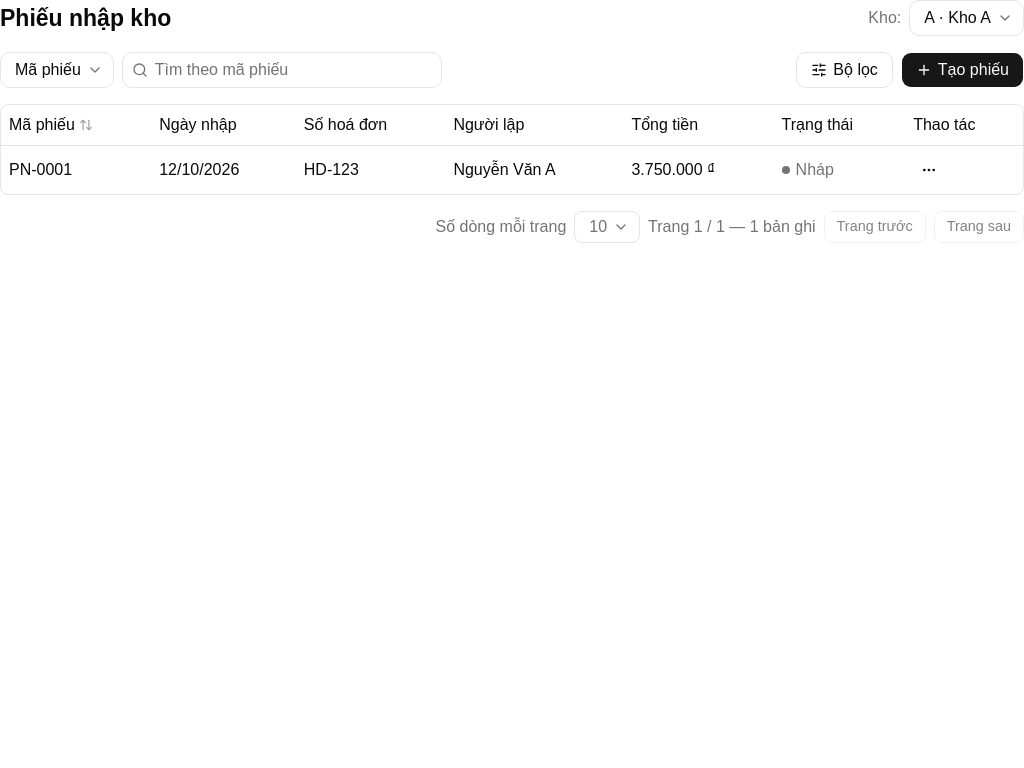
Test case: ImportFormsPage › popover Bộ lọc không còn ô Kho; ô người có nhãn phía trên
Check: the link "PN-0001" is shown, box left=9, top=160, right=72, bottom=178
Check: the dropdown labelled "Kho" is shown, box left=909, top=0, right=1023, bottom=36
What coordinates should you click on to do the following:
click the button "Bộ lọc"
I would click on:
 (845, 70)
Its box is left=796, top=52, right=893, bottom=88.
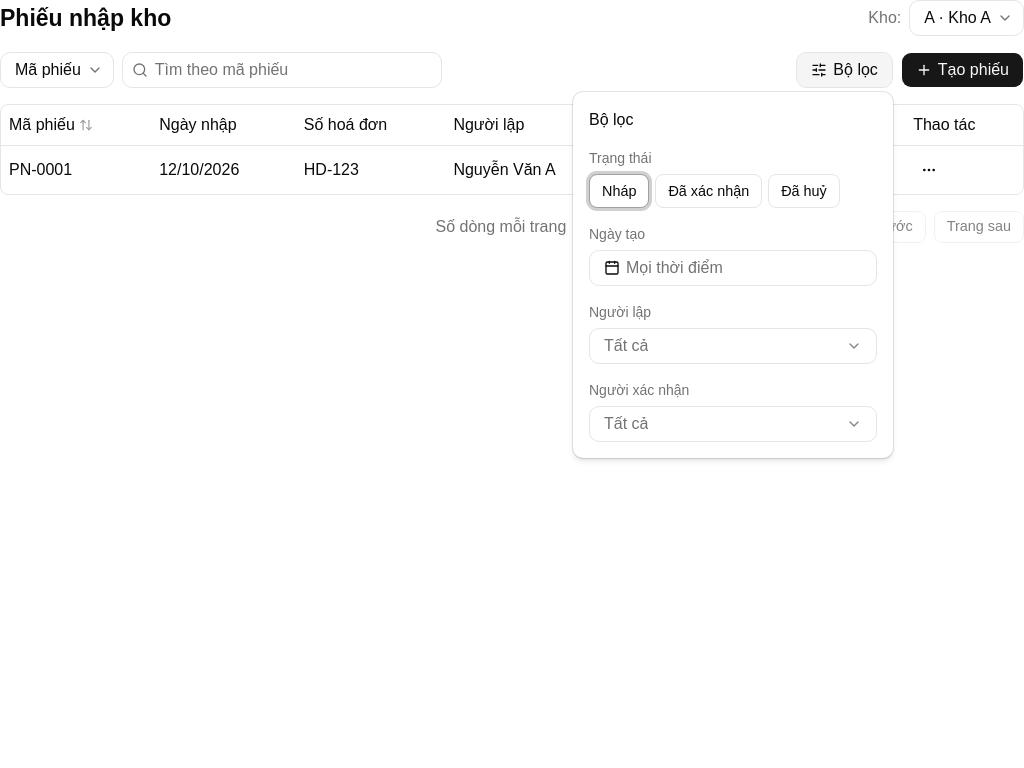
Check: the text "Người lập" is shown once, box left=589, top=304, right=651, bottom=320
Check: the text "Người xác nhận" is shown once, box left=589, top=382, right=689, bottom=398
Check: the dropdown named "Người lập" reads "Tất cả", box left=589, top=328, right=877, bottom=364
